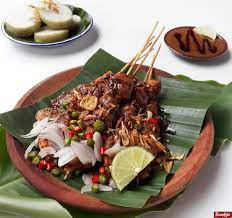sate: (19, 69, 199, 202)
